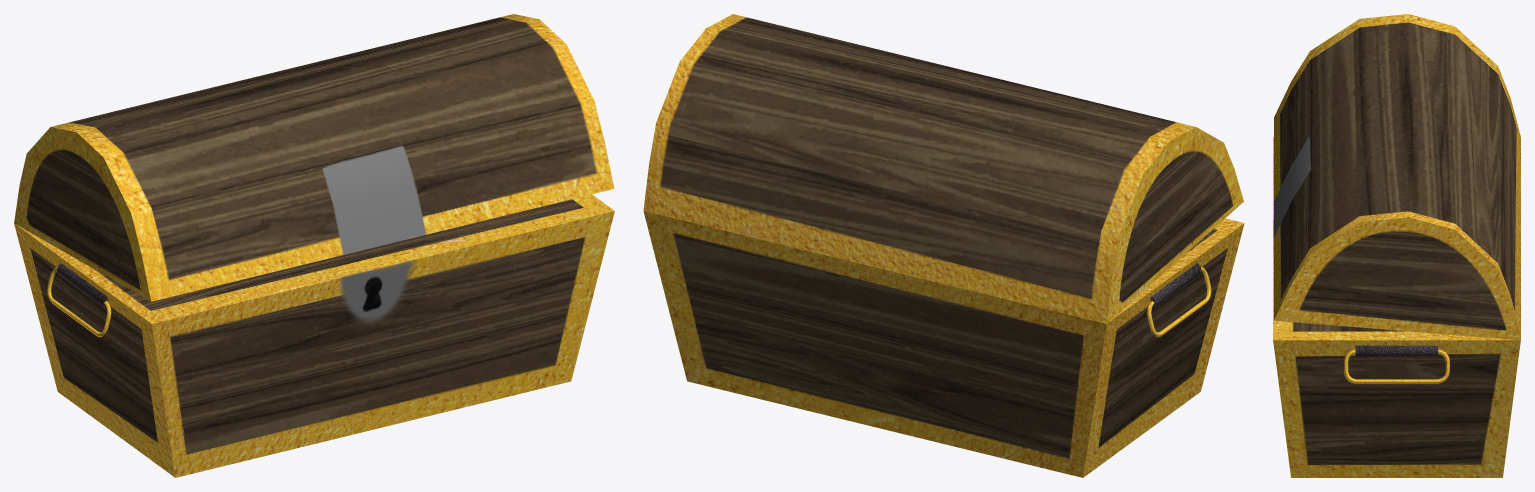
Rendered from Chest.FBX.
3 renders of one model, left to right at view 1: azimuth 30°, elevation 25°; view 2: azimuth 150°, elevation 25°; view 3: azimuth 270°, elevation 25°, orthographic. The views are drawn at different scales.
Parts seen in each view (by area): view 1: Chest; view 2: Chest; view 3: Chest.
Part boxes in pixels (x1,y1,x2,y2): Chest: (14,14,614,477); Chest: (643,14,1244,477); Chest: (1273,14,1520,477).
Bounding box in the file's own units: 10.17 × 6.17 × 5.03.
1 material, 1 textured.
